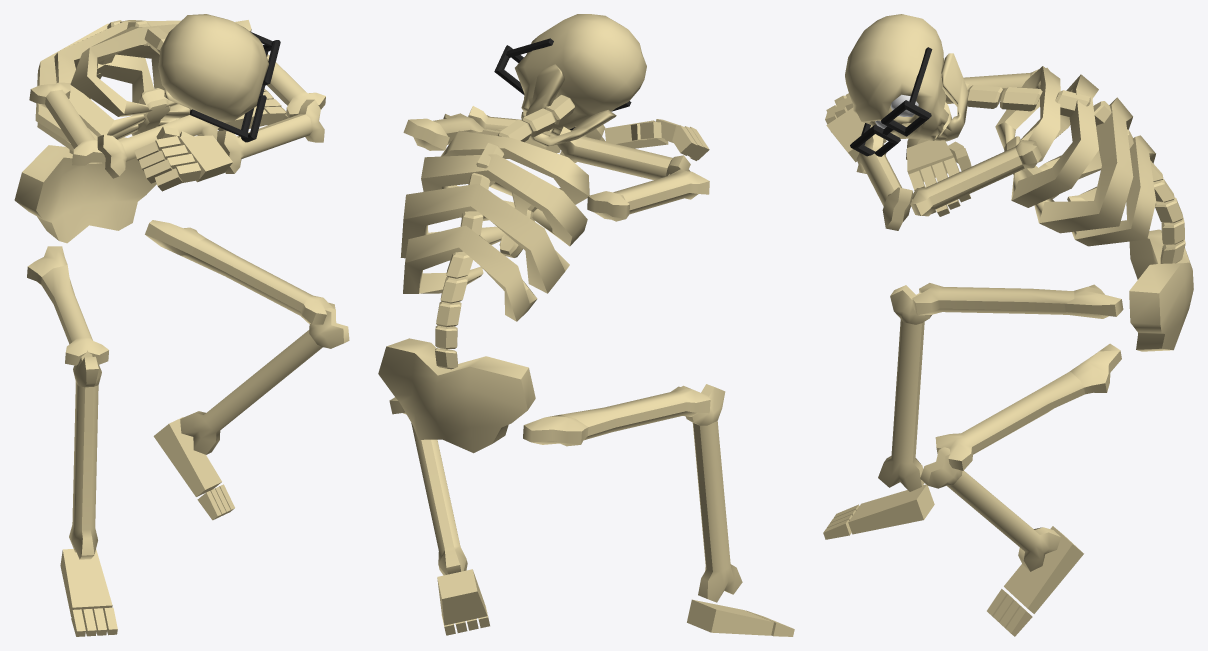
Rendered from skeleton_RECEPTIONIST_explode.fbx.
The picture shows the model from 3 angles, left to right: view 1: azimuth 30°, elevation 25°; view 2: azimuth 150°, elevation 25°; view 3: azimuth 270°, elevation 25°; orthographic projection. The views are drawn at different scales.
Parts seen in each view (by area): view 1: chest, skull, pelvis, fibiaR, tibiaR, forearmR2, handr, tibiaL, footL, footR, forearmR, upperarmL (+5 smaller); view 2: chest, pelvis, skull, forearmR2, spine, tibiaL, fibiaR, upperarmL, forearmL, footR, handr, footL (+4 smaller); view 3: chest, skull, pelvis, tibiaR, tibiaL, forearmR2, spine, fibiaR, footR, upperarmR, footL, handL (+5 smaller).
Boxes of the visible parts, bbox=[...] form: chest: bbox=[35, 20, 189, 151]; skull: bbox=[158, 14, 268, 129]; pelvis: bbox=[14, 137, 156, 243]; fibiaR: bbox=[180, 308, 349, 454]; tibiaR: bbox=[145, 220, 335, 324]; forearmR2: bbox=[69, 350, 101, 559]; handr: bbox=[134, 126, 232, 191]; tibiaL: bbox=[27, 246, 108, 365]; footL: bbox=[60, 549, 117, 636]; footR: bbox=[153, 417, 234, 520]; forearmR: bbox=[217, 99, 324, 173]; upperarmL: bbox=[29, 82, 105, 165]; chest: bbox=[400, 130, 589, 321]; pelvis: bbox=[378, 338, 535, 453]; skull: bbox=[515, 14, 646, 136]; forearmR2: bbox=[685, 384, 742, 602]; spine: bbox=[435, 95, 574, 369]; tibiaL: bbox=[523, 385, 710, 446]; fibiaR: bbox=[411, 423, 467, 575]; upperarmL: bbox=[587, 169, 709, 221]; forearmL: bbox=[557, 126, 690, 179]; footR: bbox=[437, 569, 489, 635]; handr: bbox=[604, 119, 709, 160]; footL: bbox=[687, 599, 794, 636]; chest: bbox=[995, 66, 1156, 246]; skull: bbox=[845, 14, 948, 140]; pelvis: bbox=[1129, 229, 1193, 351]; tibiaR: bbox=[935, 343, 1121, 470]; tibiaL: bbox=[912, 283, 1123, 318]; forearmR2: bbox=[878, 285, 931, 491]; spine: bbox=[945, 83, 1185, 263]; fibiaR: bbox=[920, 447, 1060, 571]; footR: bbox=[987, 526, 1083, 636]; upperarmR: bbox=[910, 140, 1041, 216]; footL: bbox=[823, 484, 934, 539]; handL: bbox=[907, 140, 971, 216].
Bounding box in the file's own units: 77.02 × 130 × 74.62.
